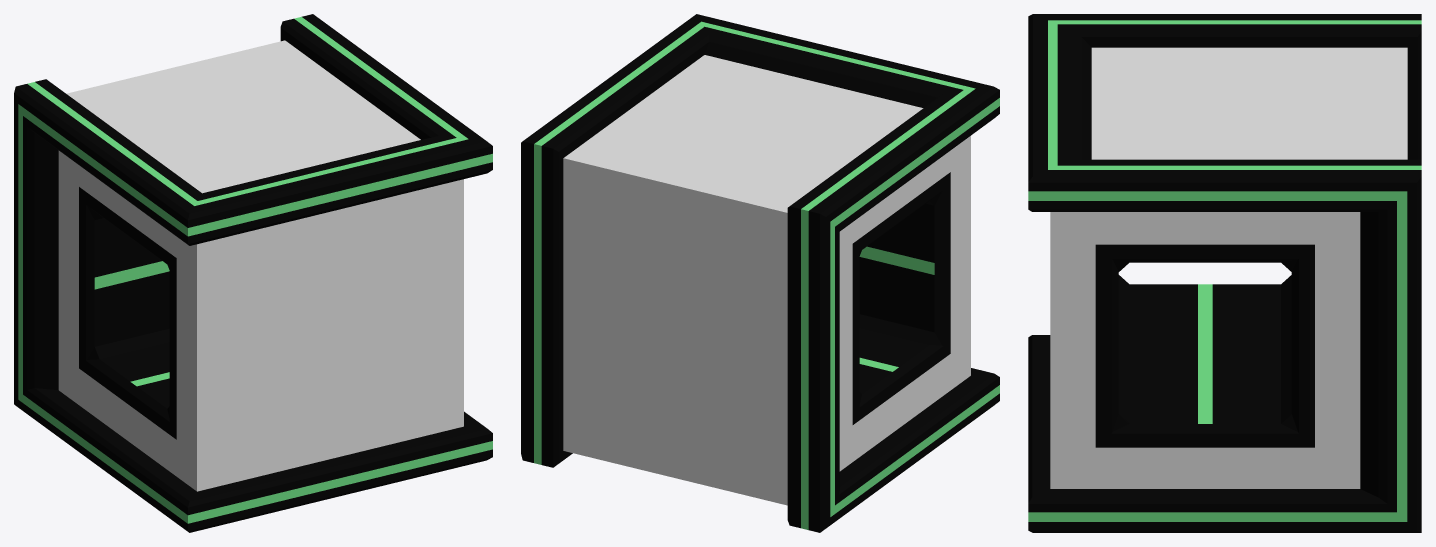
The model's file is cityCubeHQ5.glb.
3 renders of one model, left to right at view 1: azimuth 30°, elevation 25°; view 2: azimuth 150°, elevation 25°; view 3: azimuth 270°, elevation 25°, orthographic. The views are drawn at different scales.
Parts seen in each view (by area): view 1: base.008; view 2: base.008; view 3: base.008.
Part boxes in pixels (x1,y1,x2,y2): base.008: [14, 14, 492, 532]; base.008: [521, 14, 999, 532]; base.008: [1028, 14, 1421, 532].
Size of the model in its own units: 1.99 by 1.99 by 1.99.
